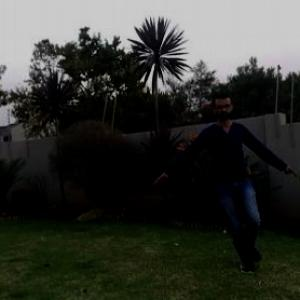land: (151, 95, 285, 259)
